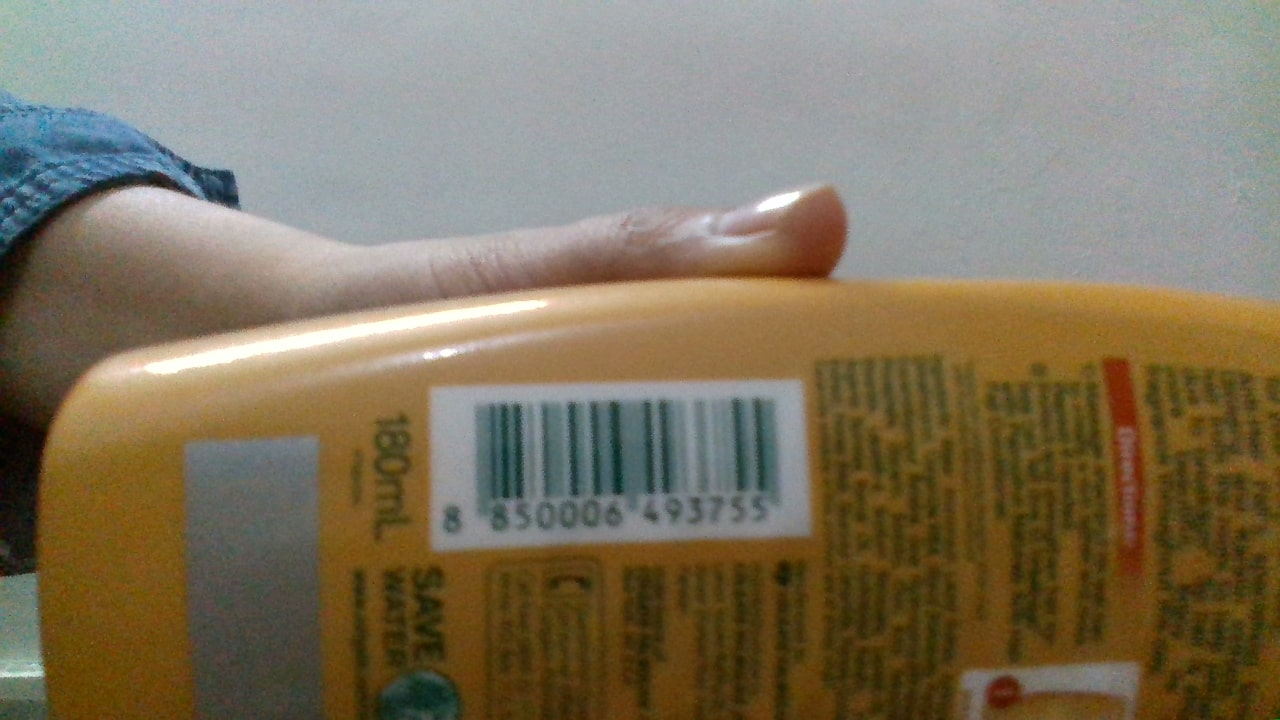Barcode: (468, 396, 784, 531)
